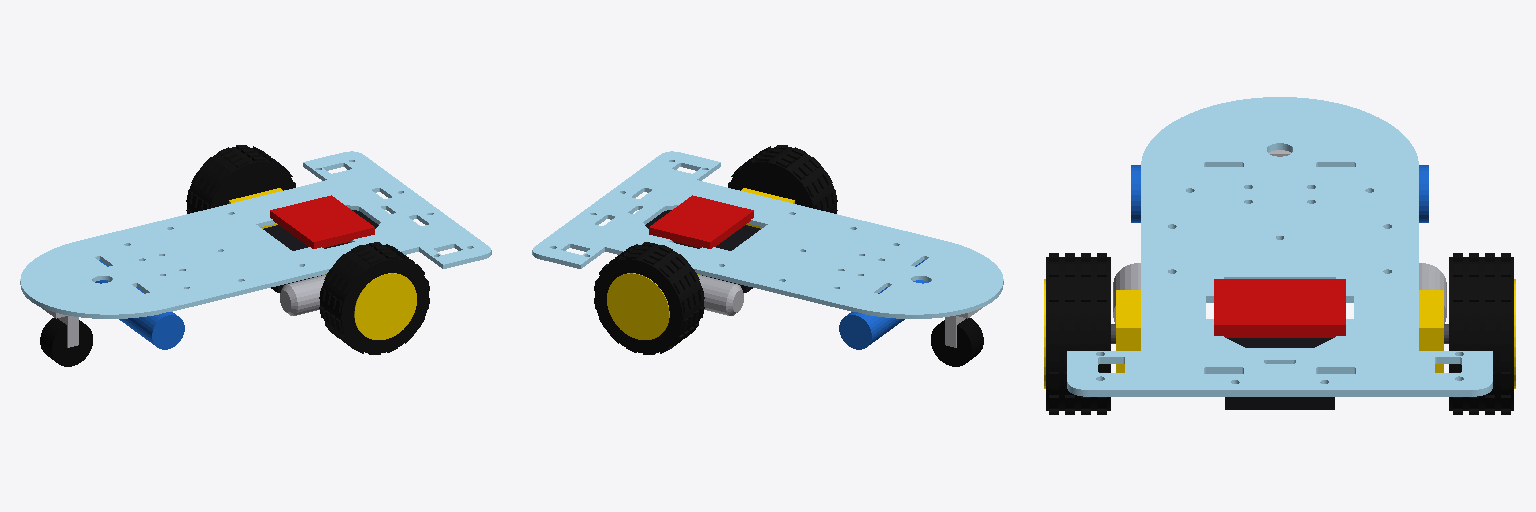
URDF robot description (robot-car):
<?xml version="1.0"?>
<!--
  Physical Agents OS — 2WD Robot Car
  Dimensions sourced from manufacturer datasheets and verified product listings.

  Coordinate convention (viewer-oriented, Z-up):
    -X = forward (bumper / front)   X = rear
    -Y = left                       Y = right
     Z = up

  Note: with -X as forward, RHR gives left = Z × (-X) = -Y.

  Note: bumper is at -X so it faces the viewer's default camera
  (Three.js camera dir (-1, 0.7, 1) → URDF -X side is camera-facing).

  Component sources:
    Chassis    — 220×150×3 mm acrylic (2WD kit, confirmed multiple sellers)
    TT Motor   — 70×22×18 mm body, 10 mm shaft @ ø5.3 mm (Adafruit #3777)
    Wheels     — ø65 mm × 25 mm rubber (Adafruit #3763)
    Caster     — 20 mm total height, 15.7 mm ball (Adafruit #3948)
    L298N      — 43×43×27.5 mm PCB + heatsink (Components101 datasheet)
    ESP32-CAM  — 40×27×12 mm incl. camera assembly (DFRobot DFR0602)
    HC-SR04    — 45×20×15 mm (SparkFun datasheet)
    Power bank — ø35×92 mm cylinder (SIXTHGU, estimated)
    9V battery — 62×27×22 mm holder (estimated)

  All dimensions in meters.
-->
<robot name="robot-car">

  <!-- ─────────────────────────────────────────────────────────────── -->
  <!-- CHASSIS                                                          -->
  <!-- Clear acrylic base plate: 220 × 150 × 3 mm                     -->
  <!-- Mesh: rounded body + curved front bumper arc (generated STL)   -->
  <!-- Bumper at -X (front/camera-facing), rear at +X                 -->
  <!-- ─────────────────────────────────────────────────────────────── -->
  <!-- base_link is the root reference frame (no visual) -->
  <link name="base_link"/>

  <!-- chassis is a child of base_link so the Inspector can select/scale it -->
  <joint name="chassis_joint" type="fixed">
    <parent link="base_link"/>
    <child link="chassis"/>
    <origin xyz="0 0 0" rpy="0 0 0"/>
  </joint>

  <link name="chassis">
    <visual>
      <geometry>
        <mesh filename="chassis.stl" scale="1.07 0.90 1.00"/>
      </geometry>
      <material name="acrylic">
        <color rgba="0.72 0.91 1.00 0.50"/>
      </material>
    </visual>
  </link>

  <!-- ─────────────────────────────────────────────────────────────── -->
  <!-- LEFT DRIVE MOTOR                                                 -->
  <!-- Shaft → -Y (left wheel).  rpy R_x(PI) flips shaft +Y → -Y     -->
  <!-- DC can stays along -X (front) because R_x doesn't affect X     -->
  <!-- ─────────────────────────────────────────────────────────────── -->
  <link name="motor_left">
    <visual>
      <origin xyz="0 0 0" rpy="3.14159 0 0"/>
      <geometry><mesh filename="tt_gearbox.stl"/></geometry>
      <material name="motor_yellow"><color rgba="1.00 0.85 0.00 1.00"/></material>
    </visual>
    <visual>
      <origin xyz="0 0 0" rpy="3.14159 0 0"/>
      <geometry><mesh filename="tt_can.stl"/></geometry>
      <material name="motor_silver"><color rgba="0.72 0.72 0.75 1.00"/></material>
    </visual>
    <visual>
      <origin xyz="0 0 0" rpy="3.14159 0 0"/>
      <geometry><mesh filename="tt_shaft.stl"/></geometry>
      <material name="motor_dark"><color rgba="0.35 0.35 0.38 1.00"/></material>
    </visual>
  </link>
  <joint name="motor_left_joint" type="fixed">
    <parent link="base_link"/>
    <child link="motor_left"/>
    <origin xyz="0.0400 -0.0570 -0.0110" rpy="0.0000 0.0000 0.0000"/>
  </joint>

  <!-- ─────────────────────────────────────────────────────────────── -->
  <!-- RIGHT DRIVE MOTOR                                                -->
  <!-- Shaft → +Y (right wheel).  No rotation needed.                 -->
  <!-- DC can along -X (toward front bumper).                         -->
  <!-- ─────────────────────────────────────────────────────────────── -->
  <link name="motor_right">
    <visual>
      <origin xyz="0 0 0" rpy="0 0 0"/>
      <geometry><mesh filename="tt_gearbox.stl"/></geometry>
      <material name="motor_yellow"><color rgba="1.00 0.85 0.00 1.00"/></material>
    </visual>
    <visual>
      <origin xyz="0 0 0" rpy="0 0 0"/>
      <geometry><mesh filename="tt_can.stl"/></geometry>
      <material name="motor_silver"><color rgba="0.72 0.72 0.75 1.00"/></material>
    </visual>
    <visual>
      <origin xyz="0 0 0" rpy="0 0 0"/>
      <geometry><mesh filename="tt_shaft.stl"/></geometry>
      <material name="motor_dark"><color rgba="0.35 0.35 0.38 1.00"/></material>
    </visual>
  </link>
  <joint name="motor_right_joint" type="fixed">
    <parent link="base_link"/>
    <child link="motor_right"/>
    <origin xyz="0.0400 0.0570 -0.0110" rpy="0.0000 0.0000 0.0000"/>
  </joint>

  <!-- ─────────────────────────────────────────────────────────────── -->
  <!-- LEFT WHEEL                                                       -->
  <!-- STL: base cyl R=31mm, tread blocks 16×4 raised to R=32.5mm, W=26mm -->
  <!-- Yellow hub disc on outboard face (local +Z → world outboard for left wheel) -->
  <!-- Shaft center at Z=+11 mm so car sits flat with swivel caster    -->
  <!-- ─────────────────────────────────────────────────────────────── -->
  <link name="wheel_left">
    <visual>
      <geometry>
        <mesh filename="wheel.stl"/>
      </geometry>
      <material name="rubber">
        <color rgba="0.10 0.10 0.10 1.00"/>
      </material>
    </visual>
    <!-- Yellow hub disc on the outboard face (local +Z = outboard for left wheel) -->
    <visual>
      <origin xyz="0 0 0.0075" rpy="0 0 0"/>
      <geometry>
        <cylinder radius="0.022" length="0.012"/>
      </geometry>
      <material name="hub_yellow">
        <color rgba="1.00 0.85 0.00 1.00"/>
      </material>
    </visual>
  </link>
  <joint name="wheel_left_joint" type="continuous">
    <parent link="base_link"/>
    <child link="wheel_left"/>
    <!-- rpy rotates cylinder from Z-axis to Y-axis so wheel spins around Y -->
    <origin xyz="0.0400 -0.0810 -0.0110" rpy="1.5708 0.0000 0.0000"/>
    <axis xyz="0 0 1"/>
    <limit effort="2.0" velocity="15.0"/>
  </joint>

  <!-- ─────────────────────────────────────────────────────────────── -->
  <!-- RIGHT WHEEL                                                      -->
  <!-- Same STL as left wheel; hub at local −Z = outboard for right   -->
  <!-- ─────────────────────────────────────────────────────────────── -->
  <link name="wheel_right">
    <visual>
      <geometry>
        <mesh filename="wheel.stl"/>
      </geometry>
      <material name="rubber">
        <color rgba="0.10 0.10 0.10 1.00"/>
      </material>
    </visual>
    <!-- Yellow hub disc on the outboard face (local -Z = outboard for right wheel) -->
    <visual>
      <origin xyz="0 0 -0.0075" rpy="0 0 0"/>
      <geometry>
        <cylinder radius="0.022" length="0.012"/>
      </geometry>
      <material name="hub_yellow">
        <color rgba="1.00 0.85 0.00 1.00"/>
      </material>
    </visual>
  </link>
  <joint name="wheel_right_joint" type="continuous">
    <parent link="base_link"/>
    <child link="wheel_right"/>
    <origin xyz="0.0400 0.0810 -0.0110" rpy="1.5708 0.0000 0.0000"/>
    <axis xyz="0 0 1"/>
    <limit effort="2.0" velocity="15.0"/>
  </joint>

  <!-- ─────────────────────────────────────────────────────────────── -->
  <!-- CASTER WHEEL ASSEMBLY (front-center, -X side)                   -->
  <!-- Swivel caster: square mount plate + steel fork + rubber wheel   -->
  <!-- Three parts share X/Y; stacked down from chassis underside      -->
  <!-- ─────────────────────────────────────────────────────────────── -->

  <!-- Mount plate: ~36×36×4 mm clear/steel -->
  <link name="caster_plate">
    <visual>
      <geometry>
        <box size="0.036 0.036 0.004"/>
      </geometry>
      <material name="caster_metal">
        <color rgba="0.76 0.76 0.78 1.00"/>
      </material>
    </visual>
  </link>
  <joint name="caster_plate_joint" type="fixed">
    <parent link="base_link"/>
    <child link="caster_plate"/>
    <origin xyz="-0.1300 0.0000 -0.0040" rpy="0 0 0"/>
  </joint>

  <!-- Swivel fork: thin U-bracket, spans plate bottom → wheel center  -->
  <!-- Height 8 mm: from plate bottom (−5 mm) to wheel center (−13.5 mm)-->
  <link name="caster_fork">
    <visual>
      <geometry>
        <box size="0.008 0.016 0.030"/>
      </geometry>
      <material name="caster_metal">
        <color rgba="0.76 0.76 0.78 1.00"/>
      </material>
    </visual>
  </link>
  <joint name="caster_fork_joint" type="fixed">
    <parent link="base_link"/>
    <child link="caster_fork"/>
    <origin xyz="-0.1300 0.0000 -0.0180" rpy="0.0000 0.0000 0.0000"/>
  </joint>

  <!-- Swivel wheel: rubber; dimensions × 1.21 from inspector calibration -->
  <!-- continuous so it visually rolls when car moves                     -->
  <link name="caster_wheel">
    <visual>
      <geometry>
        <cylinder radius="0.0146" length="0.0145"/>
      </geometry>
      <material name="caster_rubber">
        <color rgba="0.08 0.08 0.08 1.00"/>
      </material>
    </visual>
  </link>
  <joint name="caster_wheel_joint" type="continuous">
    <parent link="base_link"/>
    <child link="caster_wheel"/>
    <origin xyz="-0.1300 0.0000 -0.0320" rpy="1.5708 0.0000 0.0000"/>
    <axis xyz="0 0 1"/>
  </joint>

  <!-- ─────────────────────────────────────────────────────────────── -->
  <!-- L298N DUAL H-BRIDGE MOTOR DRIVER                                 -->
  <!-- PCB + heatsink: 43 × 43 × 27.5 mm (Components101 datasheet)    -->
  <!-- ─────────────────────────────────────────────────────────────── -->
  <link name="l298n">
    <visual>
      <geometry>
        <box size="0.0434 0.0533 0.0055"/>
      </geometry>
      <material name="pcb_red">
        <color rgba="0.85 0.08 0.08 1.00"/>
      </material>
    </visual>
  </link>
  <joint name="l298n_joint" type="fixed">
    <parent link="base_link"/>
    <child link="l298n"/>
    <origin xyz="0.0500 0.0000 0.0050" rpy="0.0000 0.0000 0.0000"/>
  </joint>

  <!-- ─────────────────────────────────────────────────────────────── -->
  <!-- AA BATTERY BOX (4×AA)                                           -->
  <!-- Holder: ~62 × 52 × 22 mm; mounted under chassis                -->
  <!-- ─────────────────────────────────────────────────────────────── -->
  <link name="battery_box">
    <visual>
      <geometry>
        <box size="0.0806 0.0442 0.022"/>
      </geometry>
      <material name="battery">
        <color rgba="0.12 0.12 0.14 1.00"/>
      </material>
    </visual>
  </link>
  <joint name="battery_box_joint" type="fixed">
    <parent link="base_link"/>
    <child link="battery_box"/>
    <!-- Z: chassis bottom (−1.5 mm) − half box (11 mm) = −12.5 mm -->
    <origin xyz="0.0460 0.0000 -0.0120" rpy="0.0000 0.0000 0.0000"/>
  </joint>

  <!-- ─────────────────────────────────────────────────────────────── -->
  <!-- POWER BANK (cylindrical)                                              -->
  <!-- ø16 mm × 92 mm; flush against chassis underside, spanning Y axis    -->
  <!-- Z: chassis bottom (−1.5 mm) − radius (8 mm) = −9.5 mm              -->
  <!-- Ground clearance: 21.5 mm − (9.5 + 8) = 4 mm                       -->
  <!-- ─────────────────────────────────────────────────────────────── -->
  <link name="powerbank">
    <visual>
      <geometry>
        <cylinder radius="0.0115" length="0.1199"/>
      </geometry>
      <material name="powerbank_blue">
        <color rgba="0.15 0.45 0.85 1.00"/>
      </material>
    </visual>
  </link>
  <joint name="powerbank_joint" type="fixed">
    <parent link="base_link"/>
    <child link="powerbank"/>
    <origin xyz="-0.0930 0.0000 -0.0110" rpy="1.5708 0.0000 0.0000"/>
  </joint>

</robot>

--- Facts derived from the render (not from the file) ---
3 views of the same robot in one strip: view 1: azimuth 30°, elevation 25°; view 2: azimuth 150°, elevation 25°; view 3: azimuth 270°, elevation 25° (orthographic).
Robot: robot-car — 12 links, 11 joints (3 continuous, 8 fixed); root link base_link; default pose: every joint at zero.
Visible links, largest first — view 1: chassis, wheel_left, wheel_right, l298n, caster_wheel, powerbank, motor_left, battery_box; view 2: chassis, wheel_right, wheel_left, l298n, caster_wheel, powerbank, motor_right, battery_box; view 3: chassis, wheel_left, wheel_right, l298n, motor_left, motor_right, battery_box, powerbank.
Boxes of the visible links, left/top/right/bottom form: chassis: left=20, top=151, right=491, bottom=318; wheel_left: left=319, top=242, right=429, bottom=354; wheel_right: left=186, top=145, right=295, bottom=213; l298n: left=270, top=195, right=374, bottom=248; caster_wheel: left=40, top=318, right=92, bottom=366; powerbank: left=95, top=260, right=184, bottom=349; motor_left: left=280, top=274, right=326, bottom=315; battery_box: left=263, top=210, right=378, bottom=292; chassis: left=532, top=151, right=1003, bottom=318; wheel_right: left=594, top=242, right=704, bottom=354; wheel_left: left=728, top=145, right=837, bottom=213; l298n: left=649, top=195, right=753, bottom=248; caster_wheel: left=931, top=318, right=983, bottom=366; powerbank: left=839, top=260, right=928, bottom=349; motor_right: left=697, top=274, right=743, bottom=315; battery_box: left=645, top=210, right=760, bottom=292; chassis: left=1067, top=97, right=1492, bottom=396; wheel_left: left=1044, top=253, right=1110, bottom=414; wheel_right: left=1449, top=253, right=1515, bottom=414; l298n: left=1214, top=279, right=1345, bottom=337; motor_left: left=1111, top=263, right=1140, bottom=372; motor_right: left=1419, top=263, right=1448, bottom=372; battery_box: left=1225, top=338, right=1334, bottom=409; powerbank: left=1131, top=165, right=1428, bottom=222.
Bounding box of the posed robot: 0.2782 × 0.189 × 0.068 m (x, y, z).
Meshes: 5 distinct files referenced, 9 mesh visuals loaded (5 binary STL).
